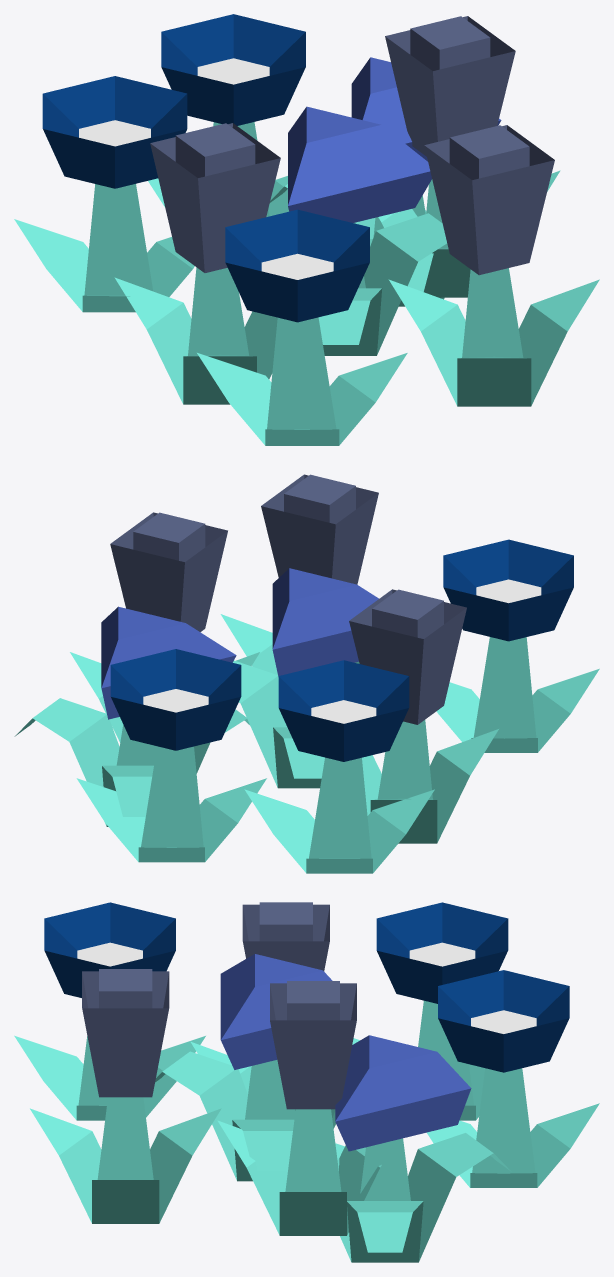
File: flowerBlue03.fbx
The picture shows the model from 3 angles, top to bottom: view 1: azimuth 30°, elevation 25°; view 2: azimuth 150°, elevation 25°; view 3: azimuth 270°, elevation 25°; orthographic projection. The views are drawn at different scales.
Visible parts, largest first — view 1: flower_purpleB3; view 2: flower_purpleB3; view 3: flower_purpleB3.
Part boxes in pixels (<box>): flower_purpleB3: <box>14,14,599,445</box>; flower_purpleB3: <box>14,474,599,873</box>; flower_purpleB3: <box>14,902,599,1262</box>.
Bounding box in the file's own units: 4.55 × 2.76 × 5.51.
